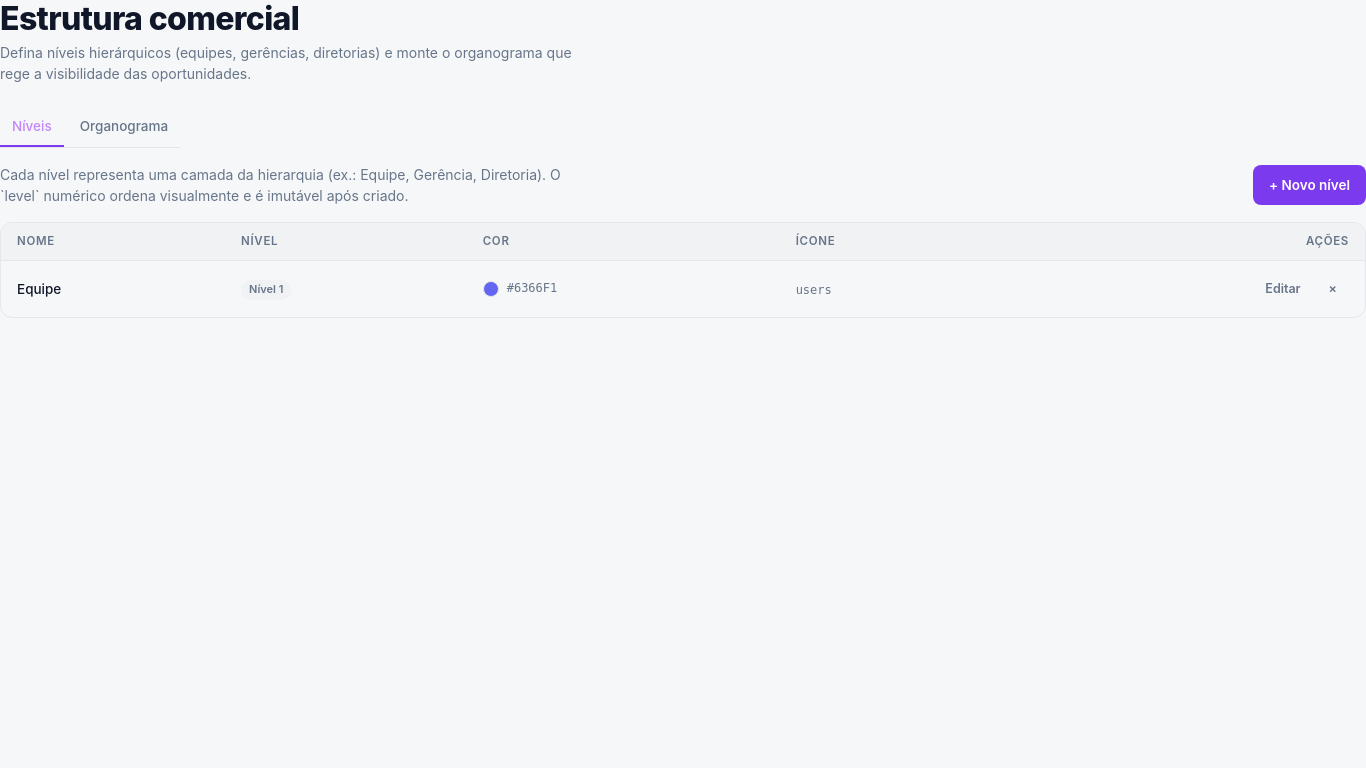
/admin/commercial-structure (Sprint 15G Fase 4a) › click "Editar" abre modal em edit mode com dados preenchidos
Click the button "Editar" at (1283, 289), box [1253,273,1313,305]
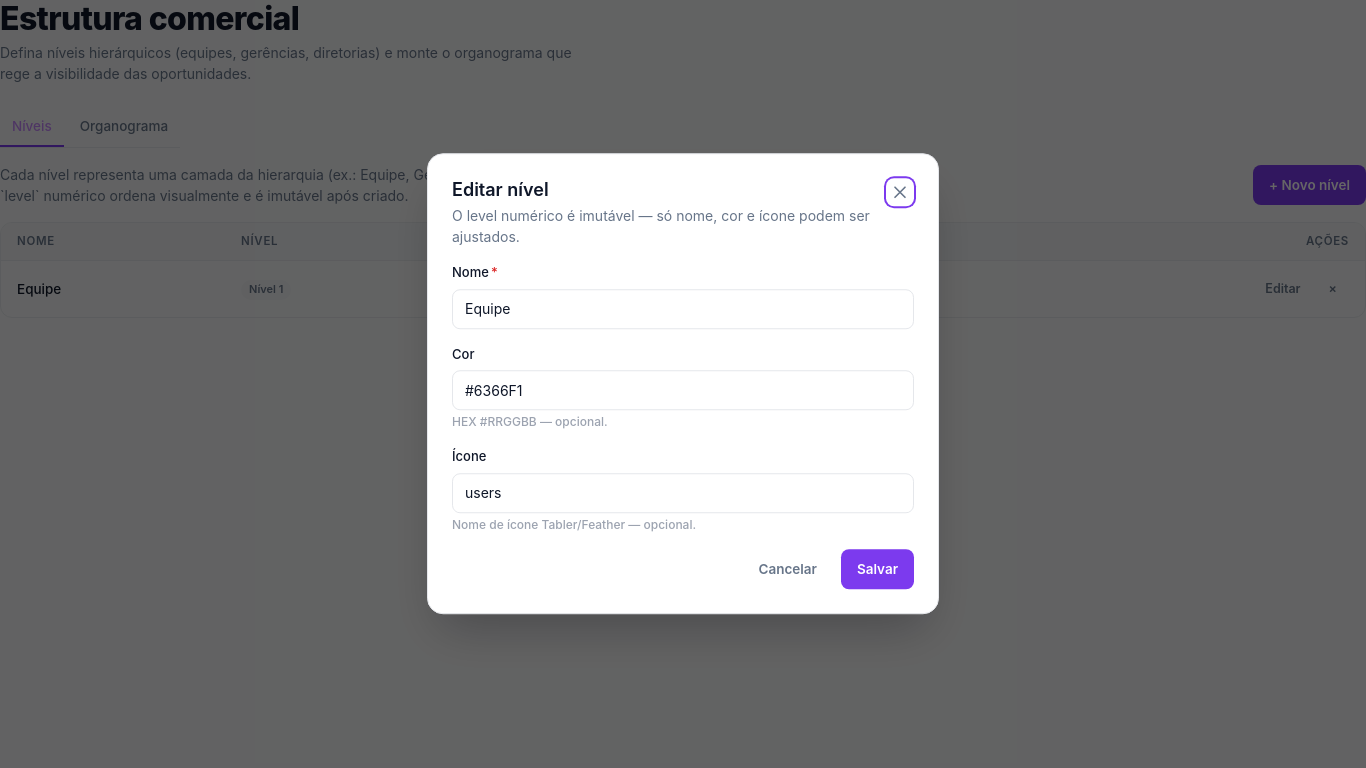
expect the dialog "Editar nível" is shown: met, box [427,153,939,615]
expect the field labelled "Nome*" holds "Equipe": met, box [452,289,914,329]
